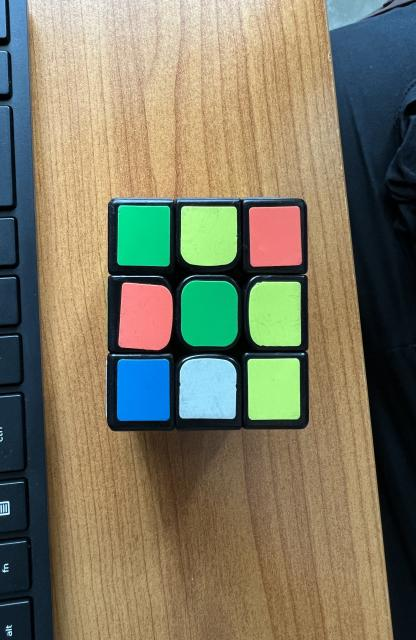Blue: (117, 359, 170, 421)
Green: (181, 280, 238, 346), (117, 205, 170, 266)
Orange: (118, 282, 172, 350), (249, 206, 302, 266)
White: (179, 358, 236, 419)
Yellow: (248, 281, 301, 346), (180, 206, 237, 266), (248, 359, 301, 420)
